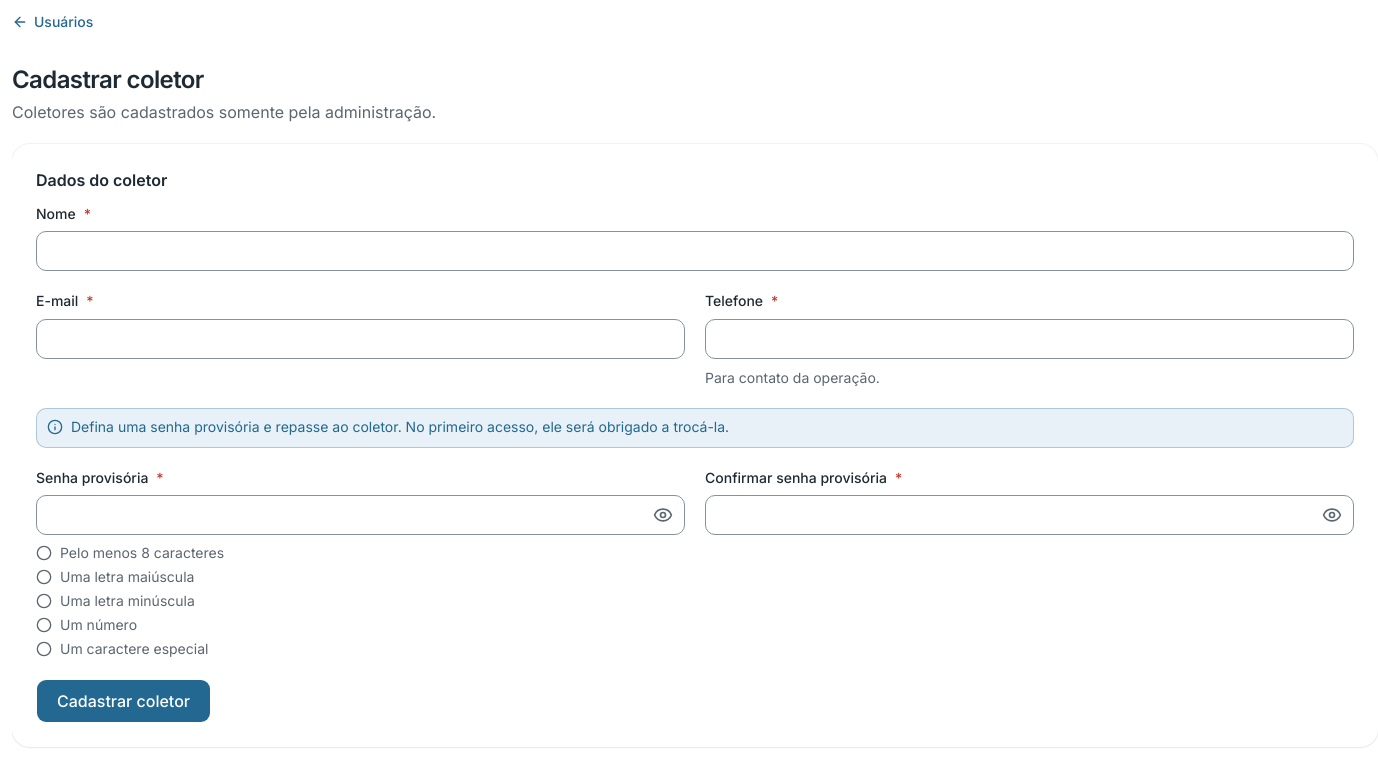
Test: AdminCollectorForm — cadastro de coletor (DEC-083) › telefone é obrigatório e a senha segue a política
The width and height of the screenshot is (1378, 759).
Type "fraca" into the password field labelled "Senha provisória *" at coordinates (360, 515), box [36, 495, 685, 535]
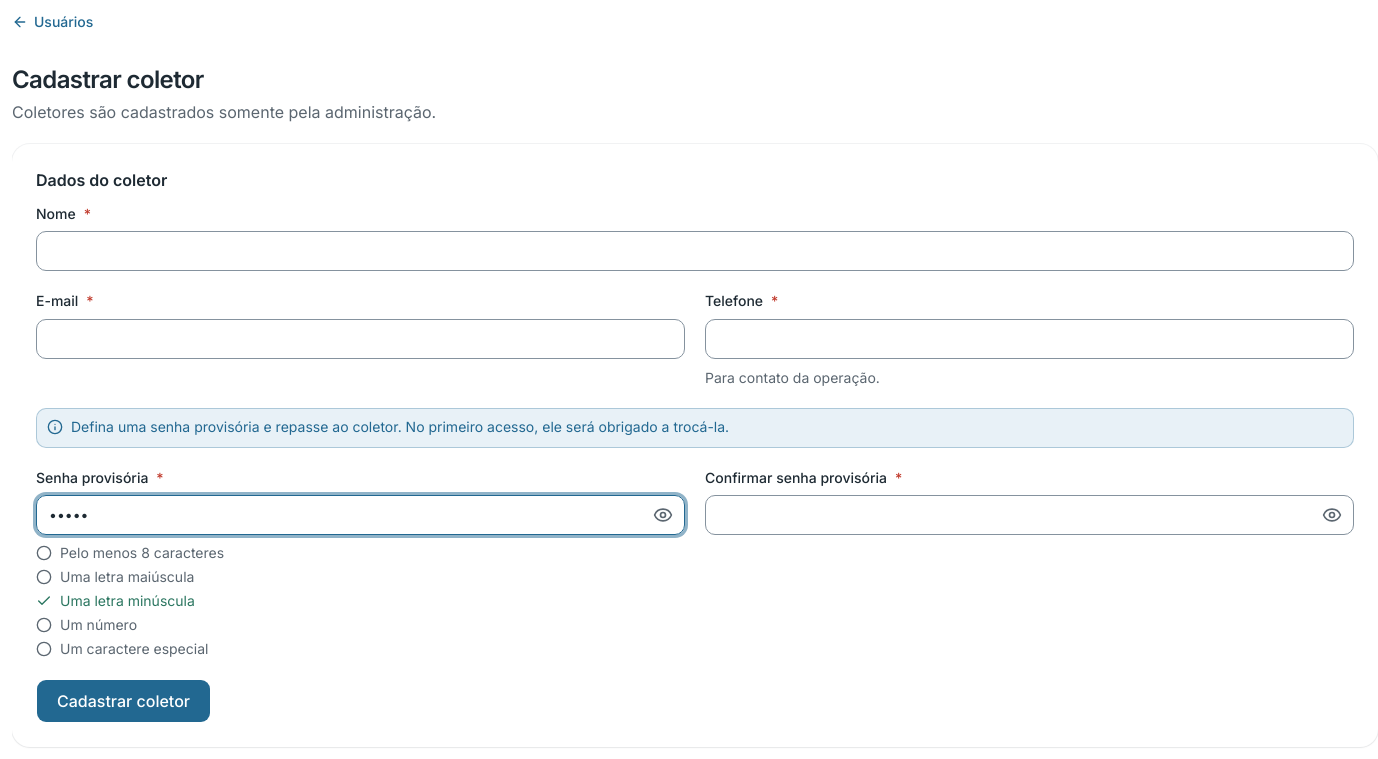
Click the button "Cadastrar coletor" at coordinates (124, 701), box [36, 679, 211, 723]
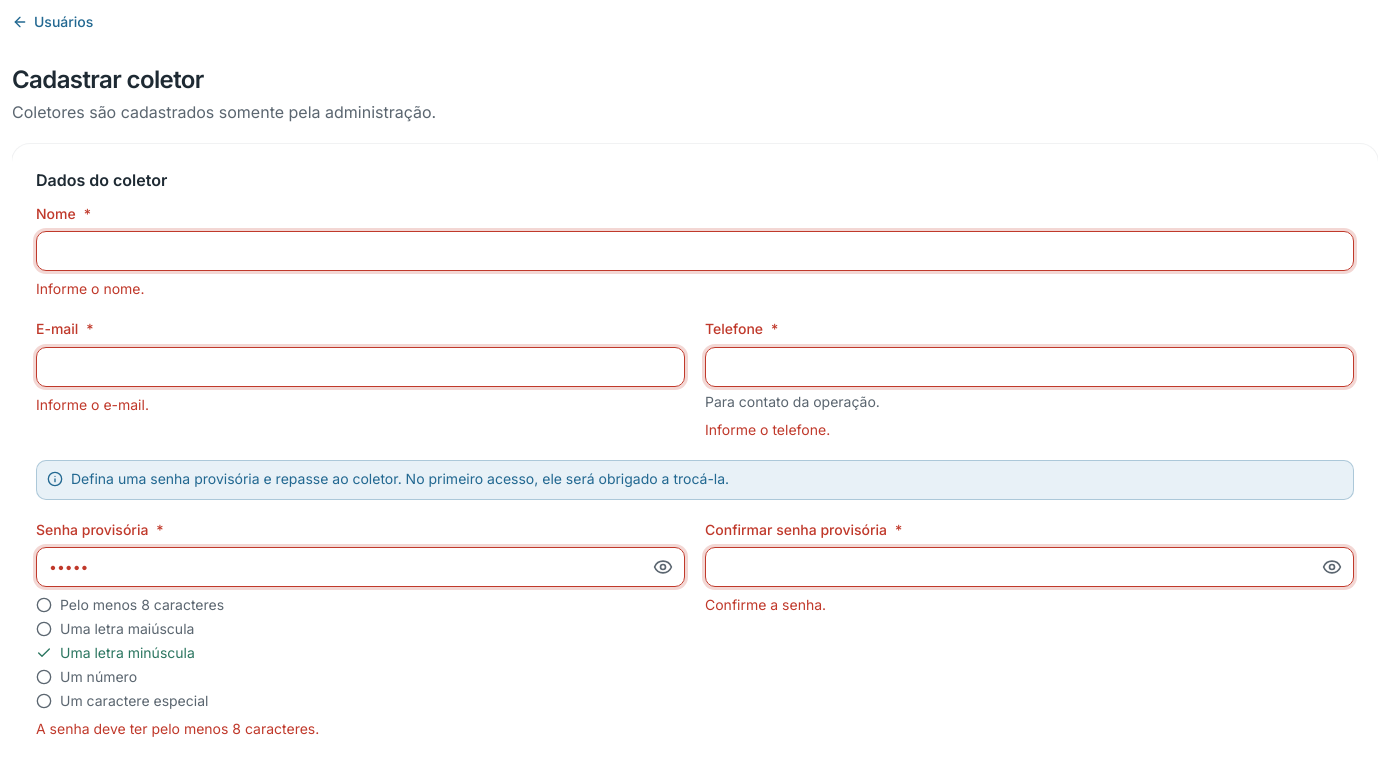
Expected: the text "Informe o telefone." is shown, [705, 420, 830, 438]
Expected: the text "A senha deve ter pelo menos 8 caracteres." is shown, [36, 720, 319, 737]
